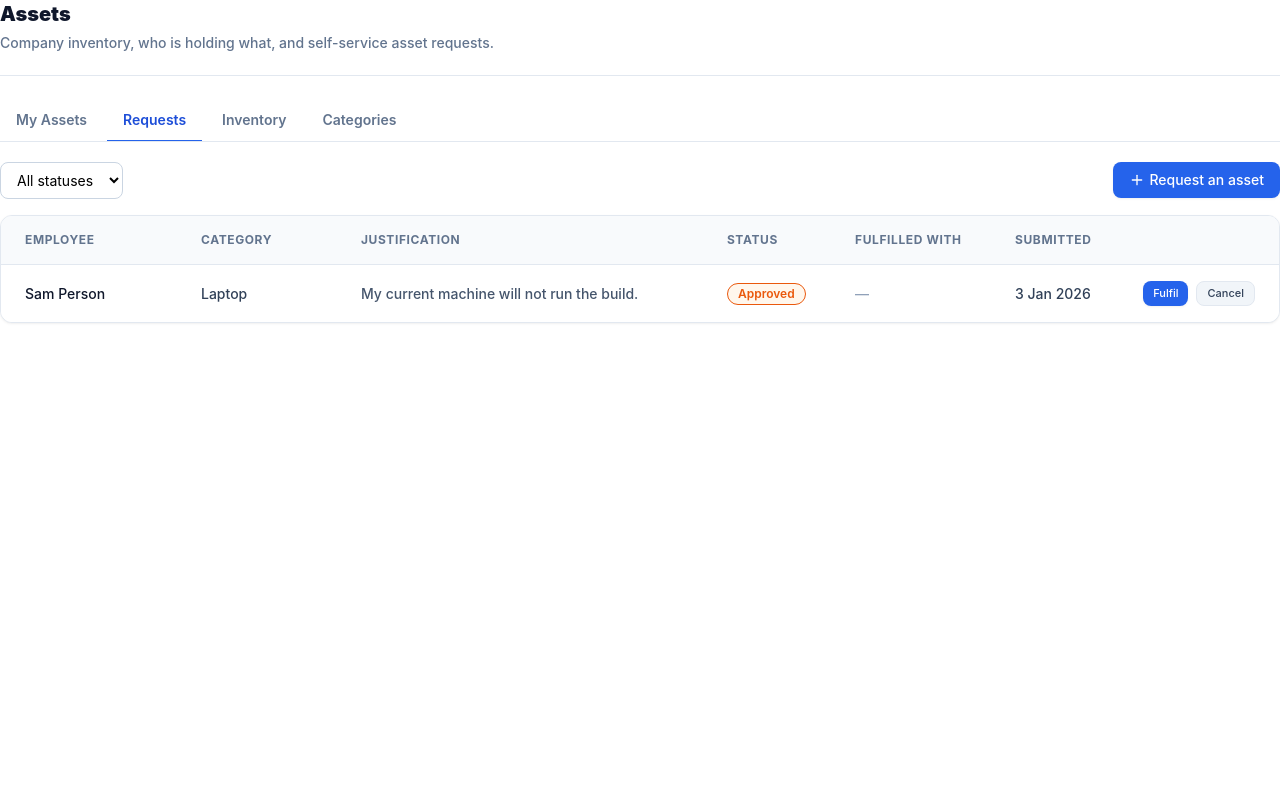
Test case: asset requests › says so when there is nothing in stock to fulfil with
Click the button "Fulfil".
click(1166, 294)  # box [1143,281,1188,306]
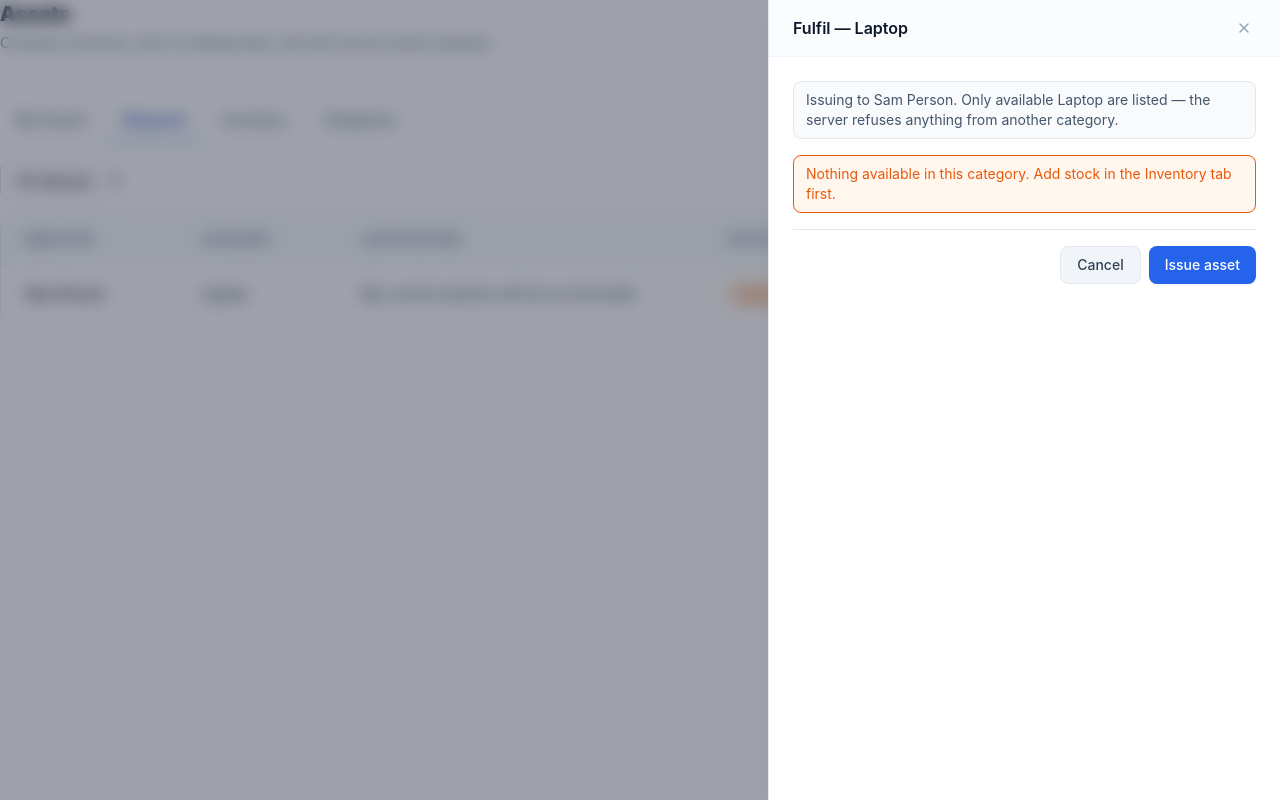
Now the text "Nothing available in this category" is shown, box [806,165,1232,202]
Now the button "Issue asset" is disabled, box [1149,246,1256,284]
